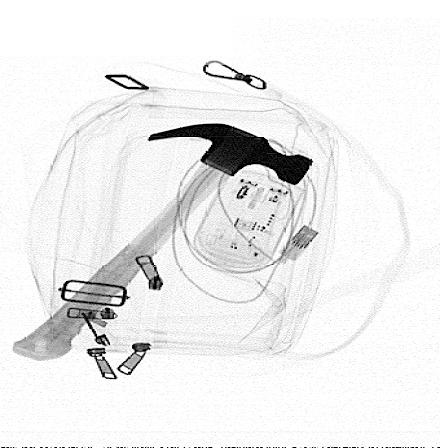Hammer: (12, 123, 315, 362)
